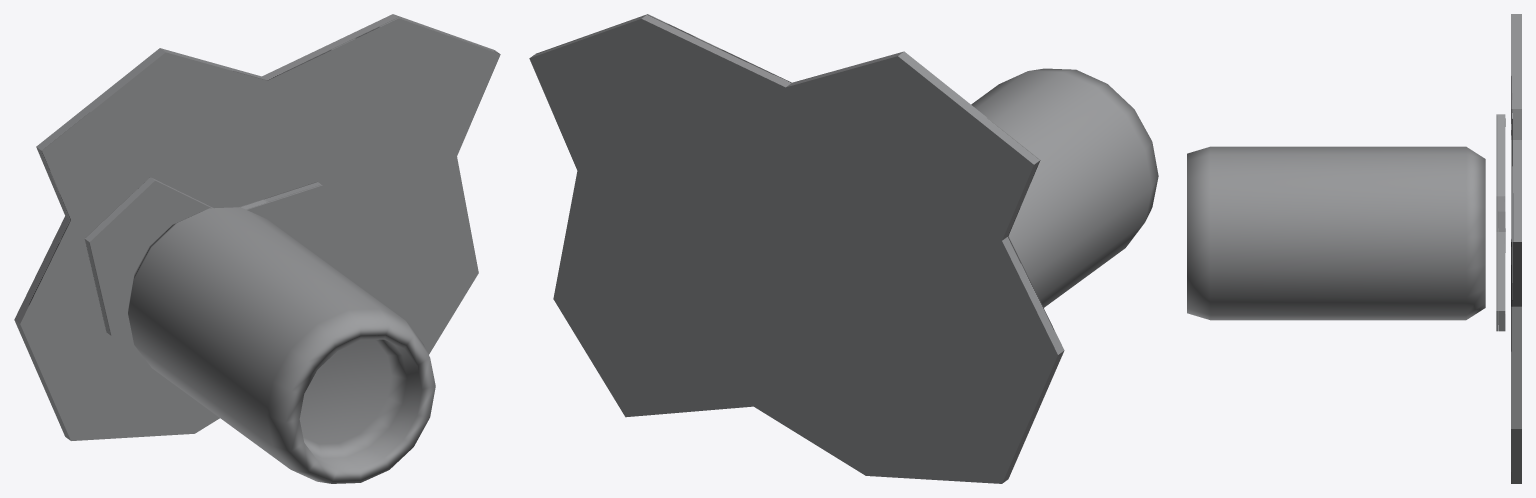
The picture shows the model from 3 angles, left to right: view 1: azimuth 30°, elevation 25°; view 2: azimuth 150°, elevation 25°; view 3: azimuth 270°, elevation 25°; orthographic projection. The views are drawn at different scales.
Size of the model in its own units: 0.561 by 0.4335 by 0.3669.
